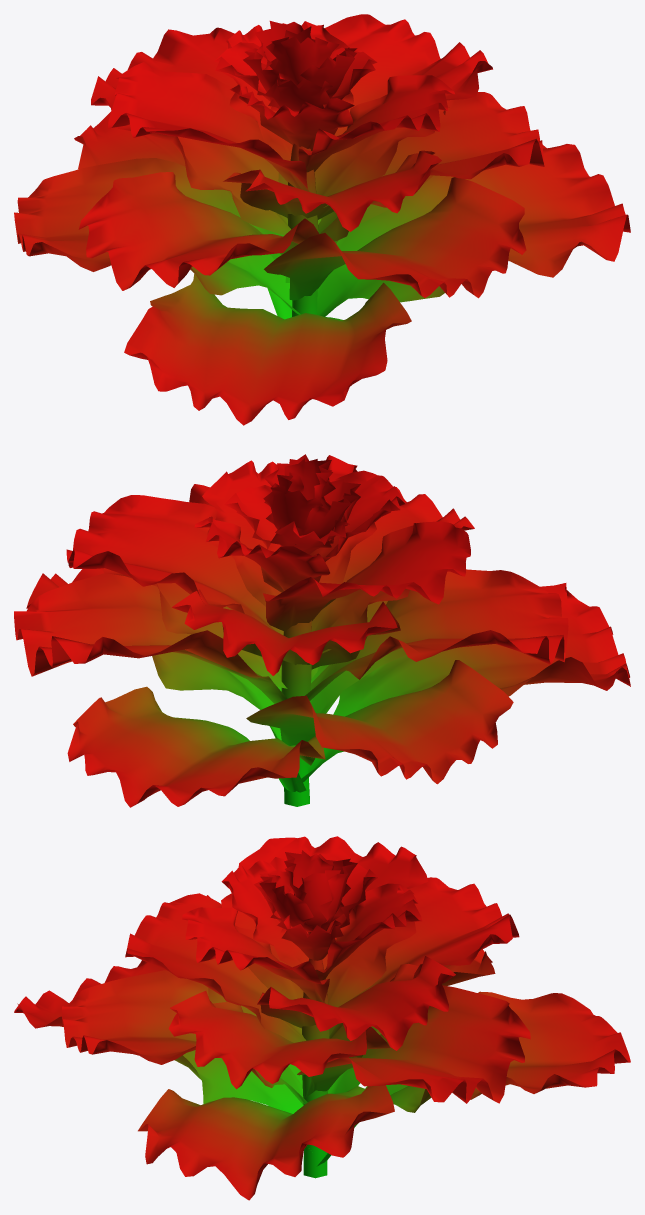
Rendered from White Ornamental Kale_LOD0_Var6_ue3ldcgja.fbx.
The picture shows the model from 3 angles, top to bottom: view 1: azimuth 30°, elevation 25°; view 2: azimuth 150°, elevation 25°; view 3: azimuth 270°, elevation 25°; orthographic projection. The views are drawn at different scales.
Visible parts, largest first — view 1: _f9fd_Var6_LOD0; view 2: _f9fd_Var6_LOD0; view 3: _f9fd_Var6_LOD0.
Part boxes in pixels (x1,y1,x2,y2): _f9fd_Var6_LOD0: (14,14,630,425); _f9fd_Var6_LOD0: (14,454,630,807); _f9fd_Var6_LOD0: (14,836,630,1200).
Size of the model in its own units: 56.69 by 34.71 by 62.18.
